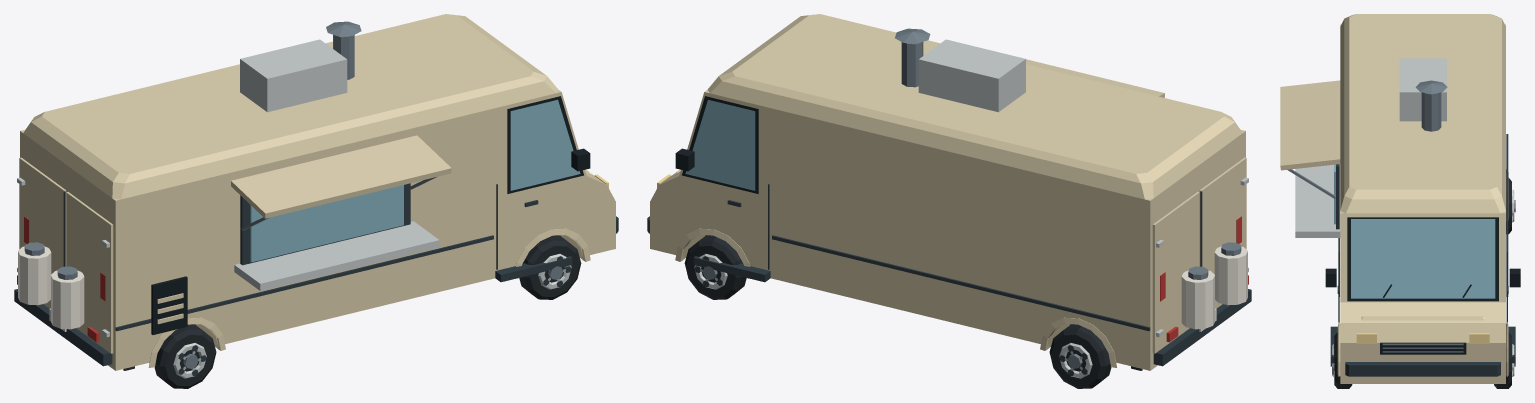
The model's file is b15_food_service_truck.glb.
The picture shows the model from 3 angles, left to right: view 1: azimuth 30°, elevation 25°; view 2: azimuth 150°, elevation 25°; view 3: azimuth 270°, elevation 25°; orthographic projection. The views are drawn at different scales.
Visible parts, largest first — view 1: b15_food_service_truck; view 2: b15_food_service_truck; view 3: b15_food_service_truck.
Boxes of the visible parts, bbox=[...] form: b15_food_service_truck: bbox=[14, 14, 618, 388]; b15_food_service_truck: bbox=[647, 14, 1251, 388]; b15_food_service_truck: bbox=[1280, 14, 1520, 388].
Size of the model in its own units: 7.76 by 3.76 by 3.45.
